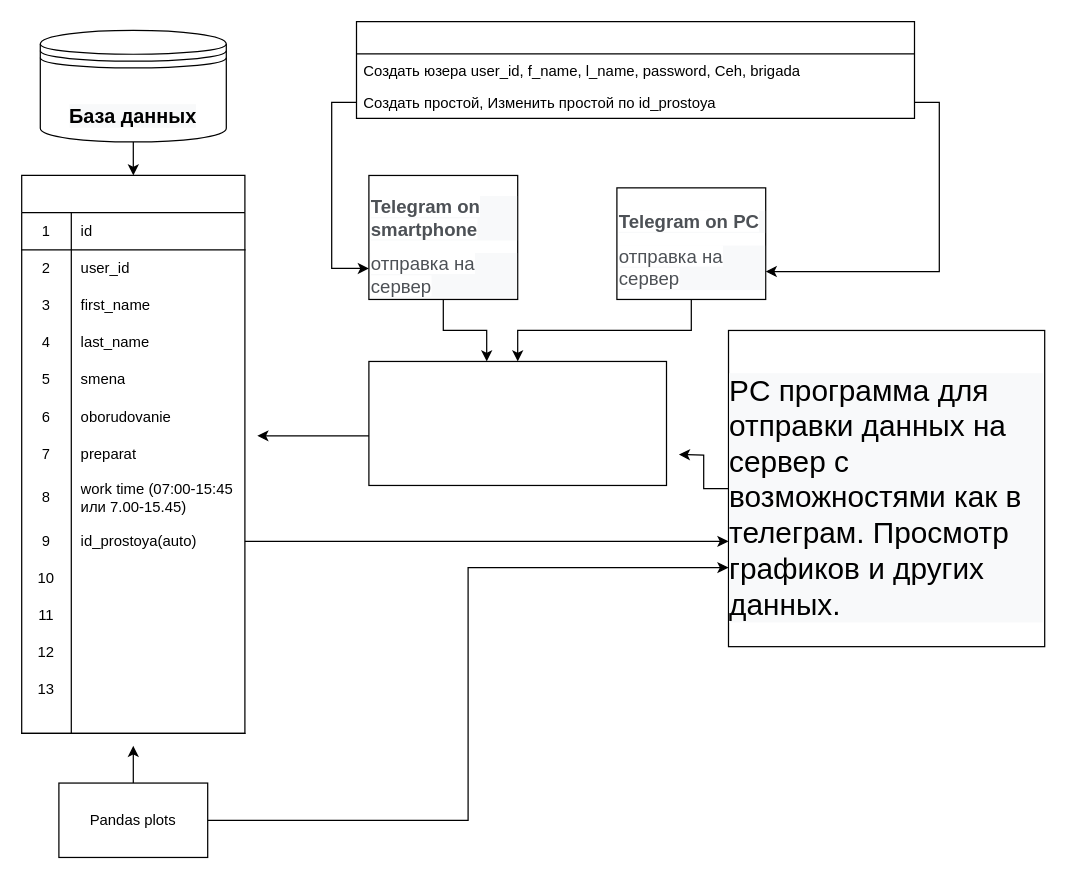
Some shapes in this 1066 by 879 pixel diagram are drawn without their labels. Each missing label, with the box of its shape:
Table (Ceh1, Ceh3): (20, 174, 245, 733)
Telegram: (355, 20, 914, 118)
Сервер Принимает данные и записывает в базу: (368, 360, 666, 485)
